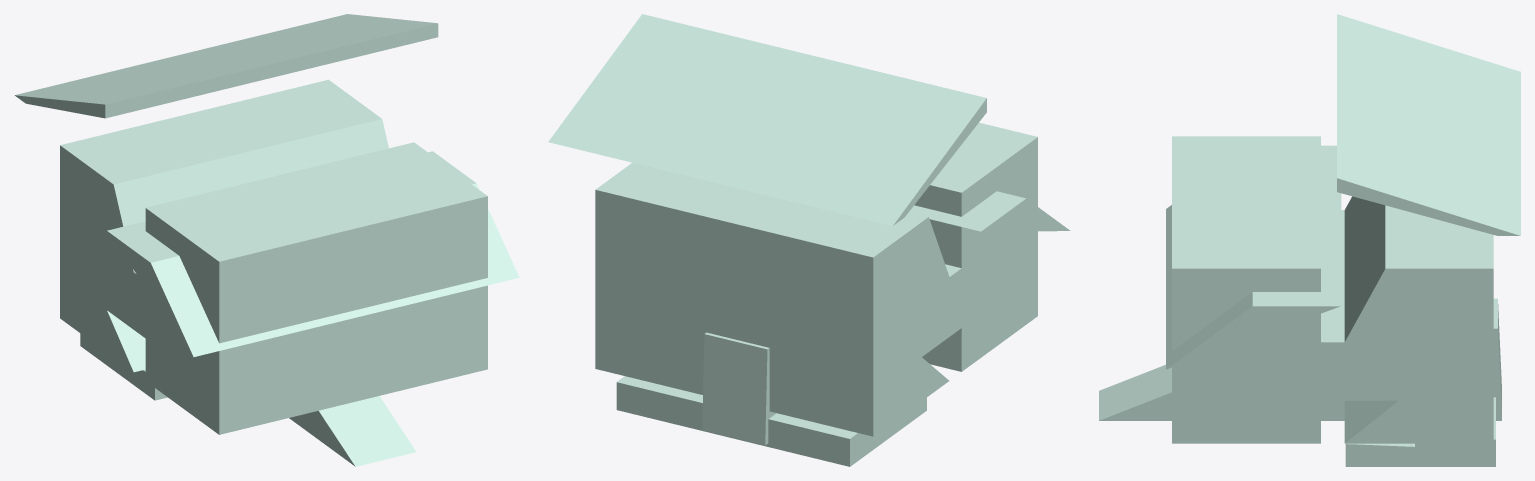
The picture shows the model from 3 angles, left to right: view 1: azimuth 30°, elevation 25°; view 2: azimuth 150°, elevation 25°; view 3: azimuth 270°, elevation 25°; orthographic projection. The views are drawn at different scales.
Visible parts, largest first — view 1: Renderer Node; view 2: Renderer Node; view 3: Renderer Node.
Part boxes in pixels (x1,y1,x2,y2): Renderer Node: [14, 14, 519, 466]; Renderer Node: [548, 14, 1070, 466]; Renderer Node: [1099, 14, 1520, 466].
Size of the model in its own units: 1.45 by 1.3 by 1.58.
